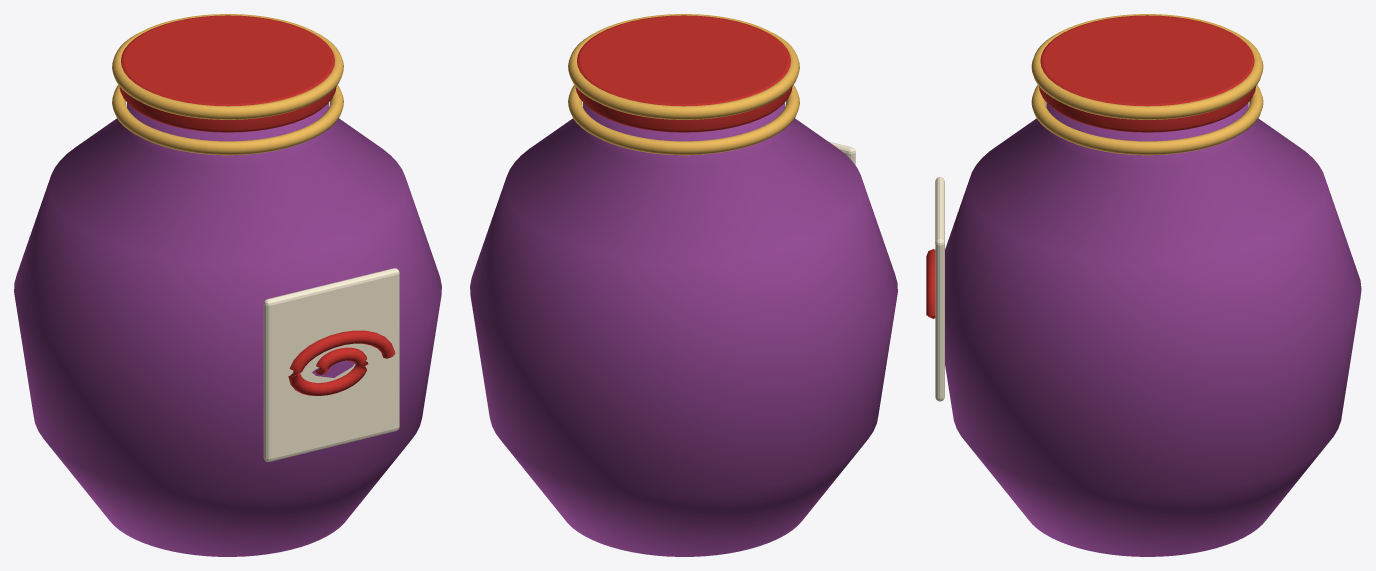
The model's file is stage-wine-jar.glb.
3 views of the same model, side by side, from view 1: azimuth 30°, elevation 25°; view 2: azimuth 150°, elevation 25°; view 3: azimuth 270°, elevation 25° (orthographic).
Visible parts, largest first — view 1: stage-wine-jar; view 2: stage-wine-jar; view 3: stage-wine-jar.
Boxes of the visible parts, x1,y1,x2,y2 form: stage-wine-jar: (14,14,441,556); stage-wine-jar: (470,14,897,556); stage-wine-jar: (926,14,1361,556).
Bounding box in the file's own units: 1.1 × 1.26 × 1.12.
